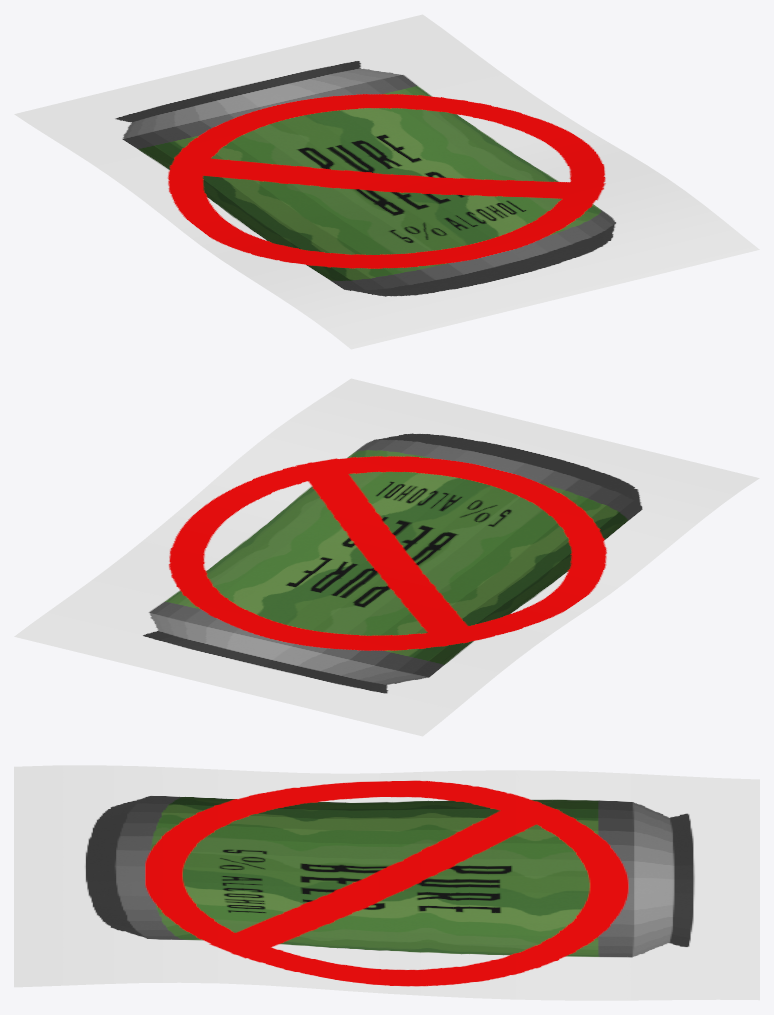
The model's file is No_Beer_paper.fbx.
3 renders of one model, top to bottom at view 1: azimuth 30°, elevation 25°; view 2: azimuth 150°, elevation 25°; view 3: azimuth 270°, elevation 25°, orthographic. The views are drawn at different scales.
Parts seen in each view (by area): view 1: No beer paper; view 2: No beer paper; view 3: No beer paper.
Part boxes in pixels (box(x1,y1,x2,y2)): No beer paper: box(14, 14, 759, 349); No beer paper: box(14, 378, 759, 736); No beer paper: box(14, 765, 759, 1000).
Size of the model in its own units: 140 by 5.29 by 200.
